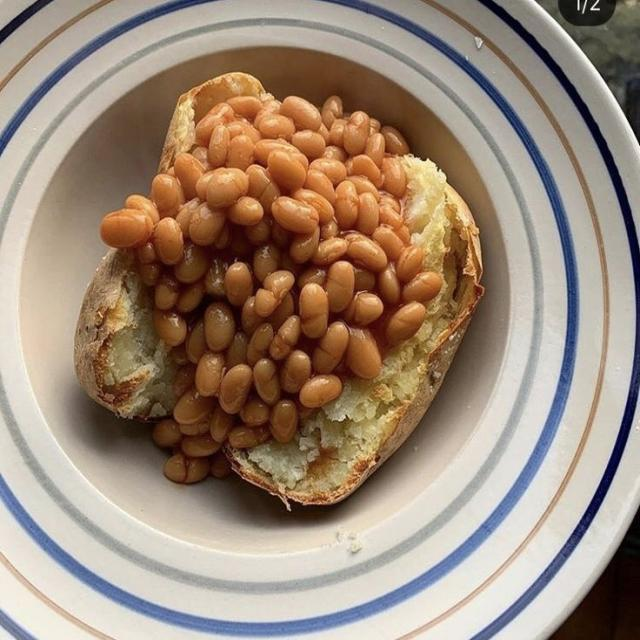beans: (103, 94, 442, 482), (100, 209, 153, 248), (255, 271, 294, 317), (313, 322, 348, 373), (346, 328, 381, 379), (386, 302, 426, 345), (273, 197, 319, 234), (219, 365, 253, 414), (207, 168, 248, 208), (195, 104, 234, 146), (247, 165, 280, 213), (189, 203, 226, 245), (300, 283, 328, 338), (267, 151, 306, 190), (204, 303, 235, 351), (174, 387, 214, 424), (347, 237, 387, 273), (292, 189, 333, 224), (326, 261, 354, 312), (152, 174, 185, 217), (280, 96, 321, 130), (174, 153, 204, 199), (154, 218, 184, 264), (269, 316, 300, 360), (174, 243, 208, 283), (164, 453, 209, 483), (300, 375, 342, 407), (280, 350, 311, 393), (195, 352, 225, 396), (345, 293, 384, 326), (254, 139, 301, 165), (254, 358, 280, 405), (402, 272, 442, 302), (343, 111, 369, 156), (154, 310, 186, 346), (335, 182, 359, 230), (270, 401, 298, 442), (247, 323, 273, 366), (304, 169, 335, 205), (349, 154, 382, 187), (290, 227, 319, 264), (373, 226, 404, 260), (227, 197, 263, 226), (291, 130, 326, 159), (310, 158, 346, 186), (175, 199, 200, 239), (396, 245, 423, 282), (254, 244, 280, 282), (267, 293, 294, 329), (227, 134, 254, 170), (259, 114, 295, 141), (356, 193, 379, 235), (228, 425, 270, 448), (382, 158, 406, 198), (126, 195, 159, 224), (208, 125, 230, 168), (313, 238, 348, 265), (240, 396, 270, 427), (209, 405, 234, 442), (378, 265, 401, 304), (181, 434, 220, 457), (186, 320, 206, 364), (154, 275, 179, 310), (241, 296, 263, 335), (226, 331, 249, 367), (205, 258, 226, 297), (227, 96, 262, 119), (244, 217, 271, 246), (381, 126, 408, 155), (227, 121, 261, 144), (173, 363, 195, 398), (347, 176, 379, 200), (153, 420, 181, 447), (229, 227, 252, 259), (254, 99, 280, 127), (321, 95, 343, 128), (365, 133, 385, 167), (297, 267, 326, 289), (164, 454, 186, 483), (380, 204, 404, 230), (272, 220, 292, 249), (211, 452, 231, 478), (196, 171, 213, 201), (212, 224, 231, 250), (139, 264, 161, 286), (136, 242, 158, 264), (355, 268, 375, 292), (330, 118, 346, 147), (191, 147, 211, 170), (280, 253, 300, 275), (170, 343, 189, 366), (323, 146, 348, 162), (380, 194, 401, 213), (320, 219, 339, 239), (180, 422, 207, 436), (394, 224, 411, 245), (318, 123, 330, 145), (370, 118, 381, 134)
sliced bread: (227, 155, 483, 503), (75, 249, 176, 418), (161, 72, 265, 171)
